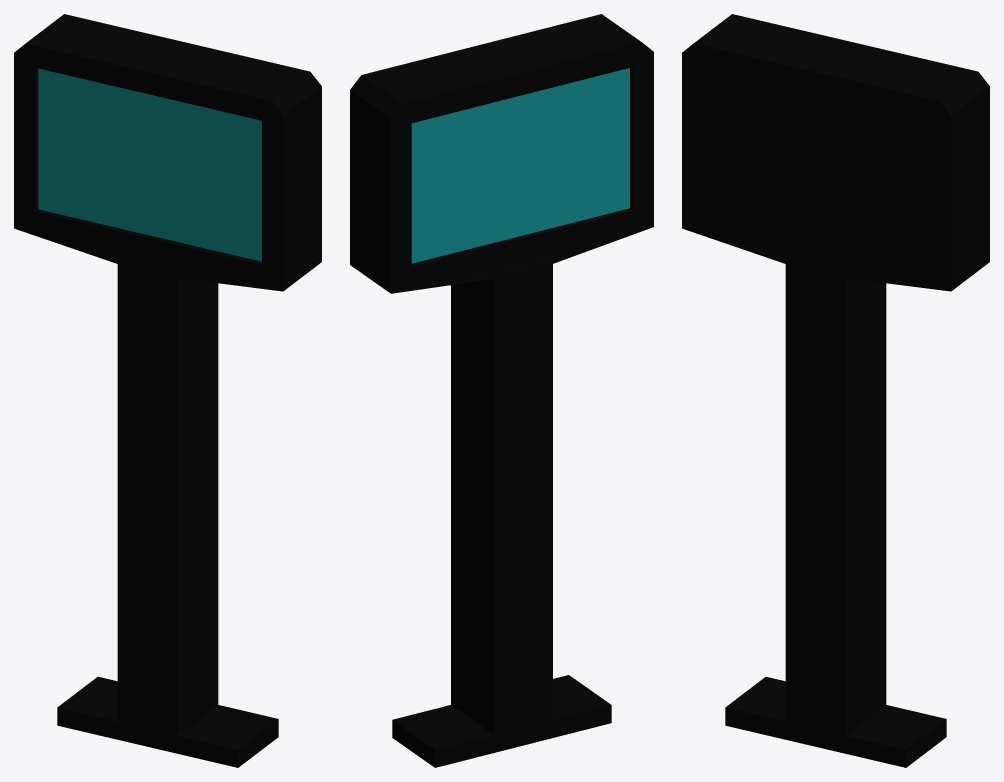
Rendered from cashier_price_display.fbx.
3 renders of one model, left to right at view 1: azimuth 90°, elevation 25°; view 2: azimuth 150°, elevation 25°; view 3: azimuth 270°, elevation 25°, orthographic.
Visible parts, largest first — view 1: Cube.012; view 2: Cube.012; view 3: Cube.012.
Part boxes in pixels (x1=…): Cube.012: x1=14, y1=14, x2=321, y2=767; Cube.012: x1=350, y1=14, x2=653, y2=767; Cube.012: x1=682, y1=14, x2=989, y2=767.
Bounding box in the file's own units: 21.5 × 73.02 × 30.23.
